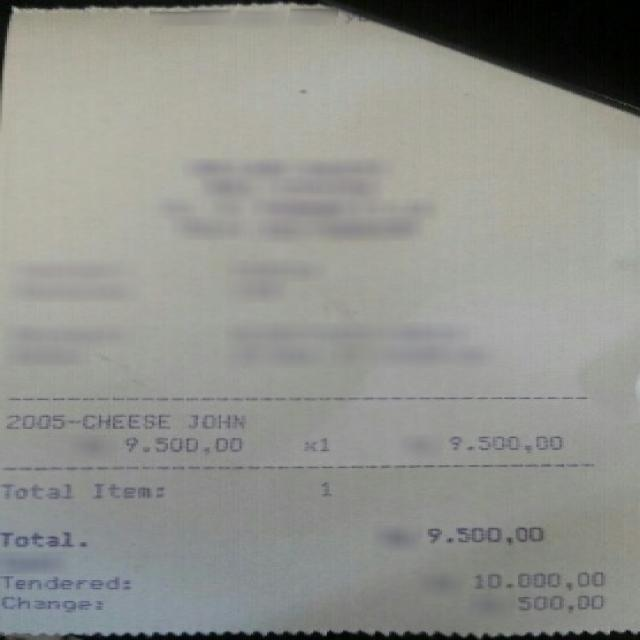text: (468, 570, 598, 588), (424, 524, 538, 544), (4, 412, 166, 426), (0, 572, 129, 589), (120, 436, 237, 454), (0, 593, 102, 612), (444, 432, 557, 449), (0, 528, 85, 546), (516, 594, 598, 610), (90, 480, 163, 495), (0, 481, 69, 495), (184, 412, 240, 426), (301, 435, 327, 450), (316, 479, 330, 496)
